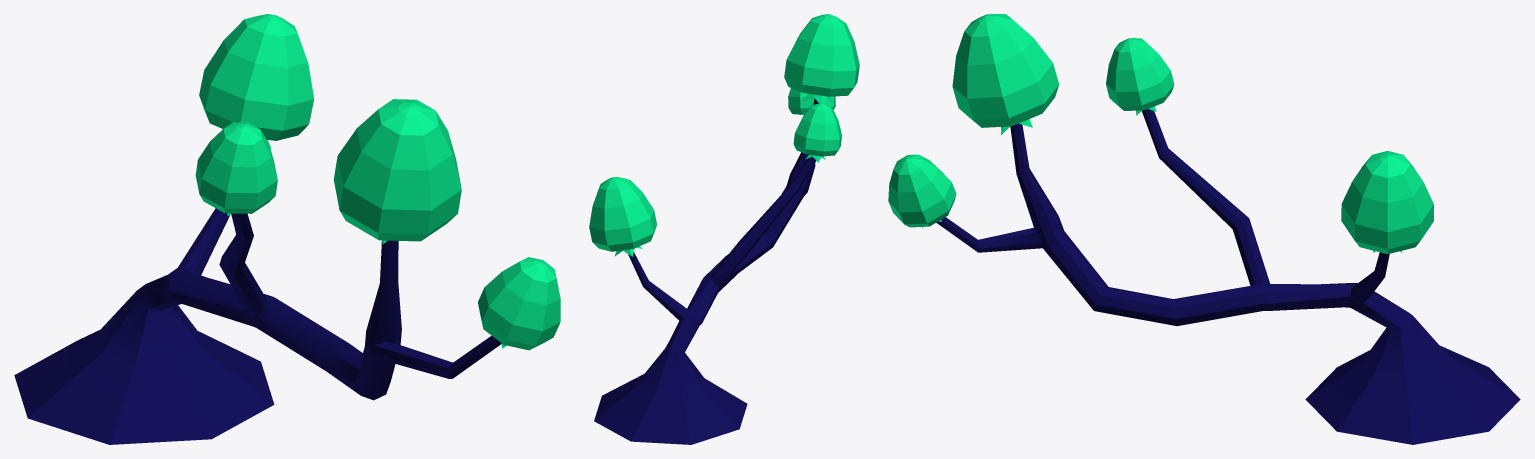
Rendered from Strawberry_Fungus.fbx.
3 views of the same model, side by side, from view 1: azimuth 30°, elevation 25°; view 2: azimuth 150°, elevation 25°; view 3: azimuth 270°, elevation 25° (orthographic). The views are drawn at different scales.
Parts seen in each view (by area): view 1: stem, glow; view 2: stem, glow; view 3: stem, glow.
Boxes of the visible parts, left/top/right/bottom form: stem: left=14, top=208, right=501, bottom=444; glow: left=195, top=14, right=560, bottom=350; stem: left=594, top=98, right=818, bottom=444; glow: left=589, top=14, right=859, bottom=256; stem: left=936, top=109, right=1520, bottom=444; glow: left=888, top=14, right=1433, bottom=254.
Size of the model in its own units: 14.96 by 25.91 by 38.75.
